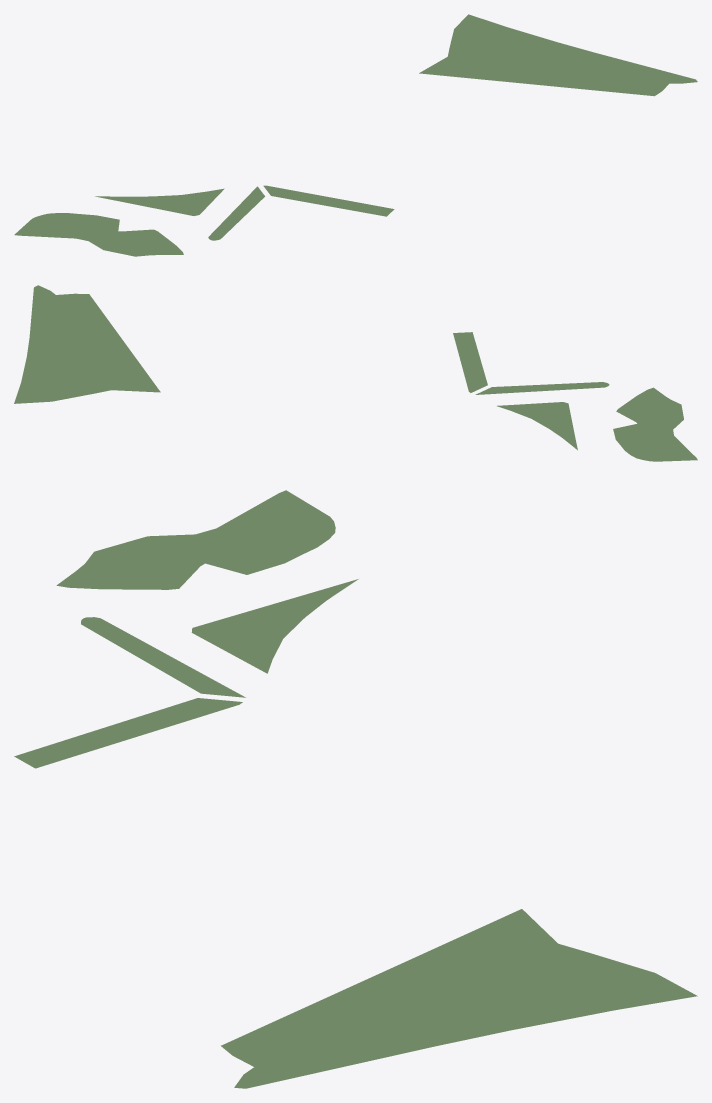
Rendered from c_1645_17814_parks.glb.
The picture shows the model from 3 angles, top to bottom: view 1: azimuth 30°, elevation 25°; view 2: azimuth 150°, elevation 25°; view 3: azimuth 270°, elevation 25°; orthographic projection. The views are drawn at different scales.
Visible parts, largest first — view 1: geometry_0; view 2: geometry_0; view 3: geometry_0.
Part boxes in pixels (x1,y1,x2,y2): geometry_0: (14,14,697,256); geometry_0: (14,285,697,461); geometry_0: (14,490,697,1088).
Bounding box in the file's own units: 288 × 0 × 139.
